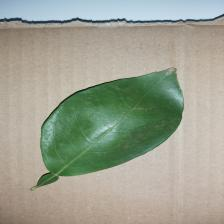healthy: (33, 66, 190, 188)
